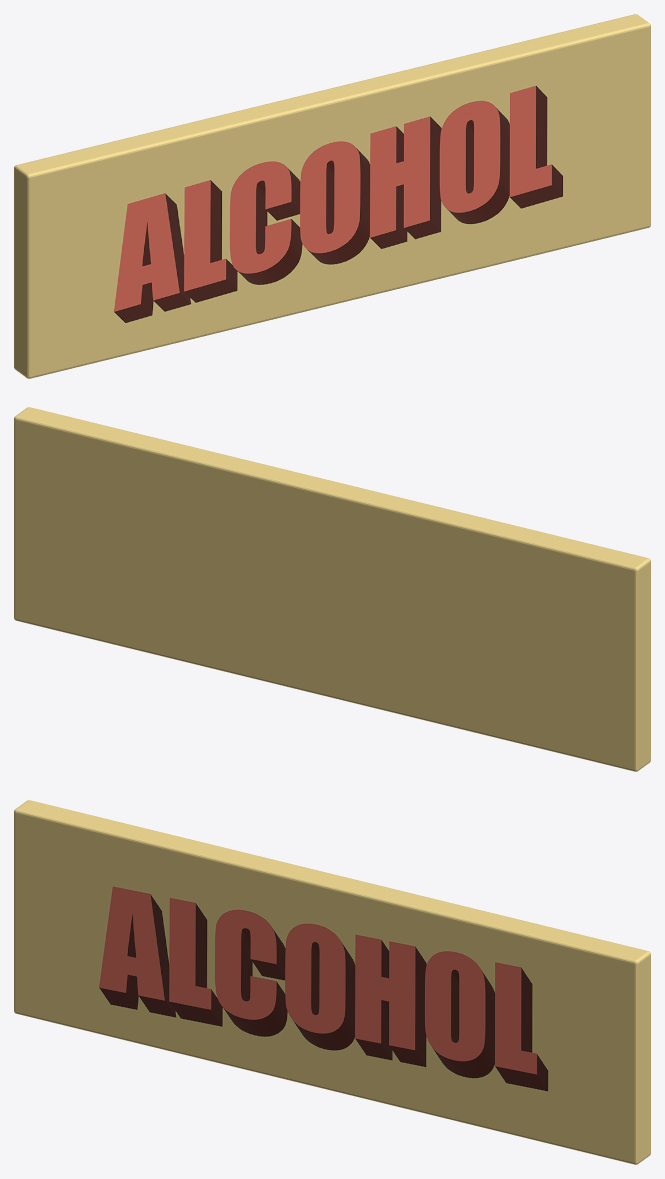
Rendered from alcohol.fbx.
The picture shows the model from 3 angles, top to bottom: view 1: azimuth 30°, elevation 25°; view 2: azimuth 150°, elevation 25°; view 3: azimuth 330°, elevation 25°; orthographic projection.
Parts seen in each view (by area): view 1: alcohol; view 2: alcohol; view 3: alcohol.
Part boxes in pixels (box(x1,y1,x2,y2)): alcohol: box(14, 14, 650, 378); alcohol: box(14, 407, 650, 771); alcohol: box(14, 800, 650, 1164).
Size of the model in its own units: 121 by 38 by 5.
1 material, 1 textured.
